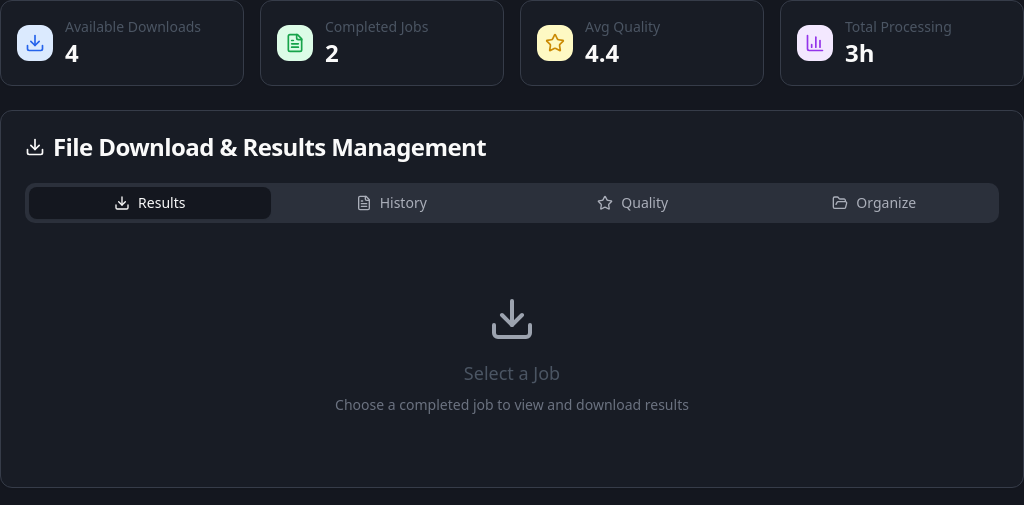
it: FileDownloadManager › should switch to quality tab and show select job message when no job selected
The image size is (1024, 505).
Click the tab "Quality" at x=633, y=203, box x1=512 y1=187 x2=754 y2=219
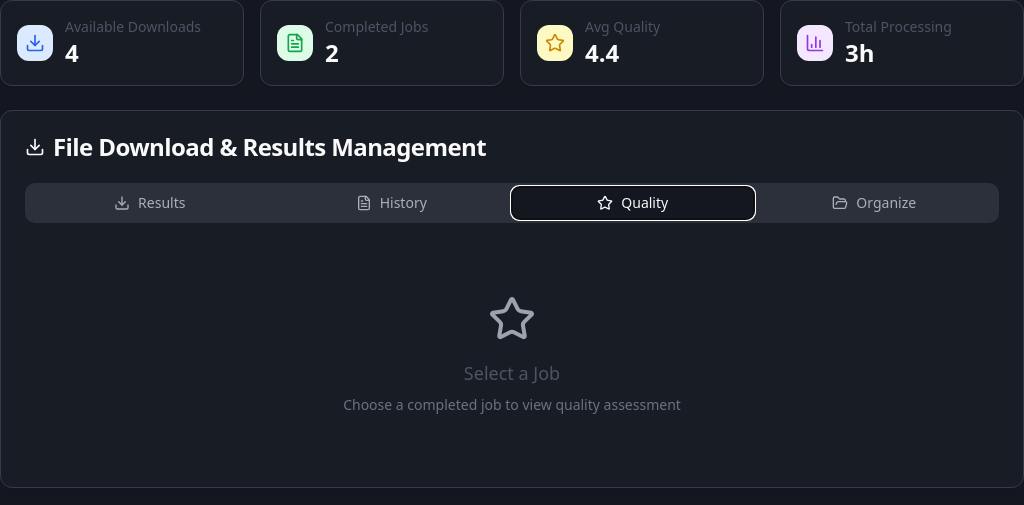
expect the heading "Select a Job" is shown: met, box x1=464 y1=361 x2=560 y2=385
expect the text "Choose a completed job to view quality assessment" is shown: met, box x1=343 y1=395 x2=681 y2=414
